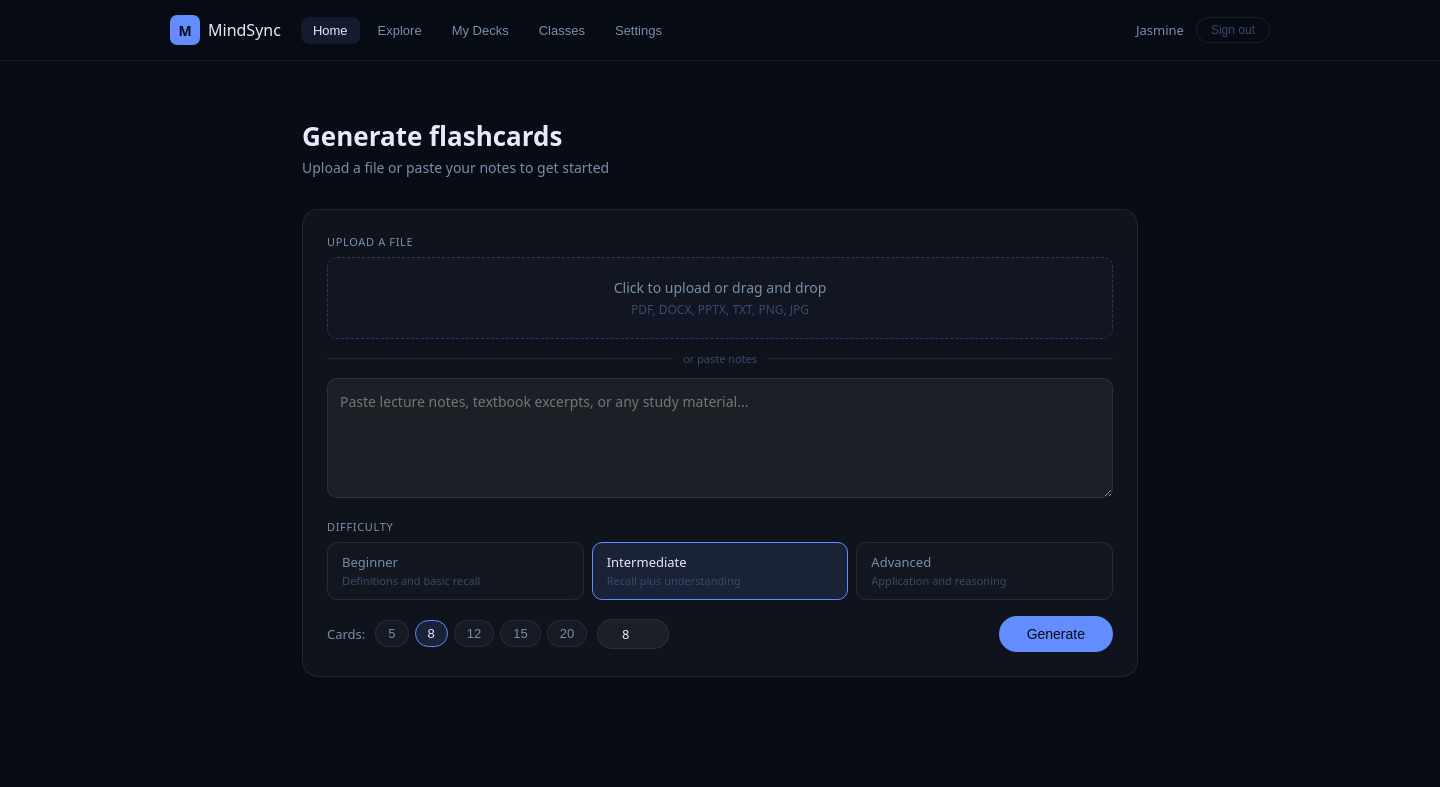
review screen › deleting a card excludes it from the saved deck
The width and height of the screenshot is (1440, 787).
Type "notes" into the text box with placeholder "Paste lecture notes".
click(720, 438); type("notes")  # box [327,378,1113,498]
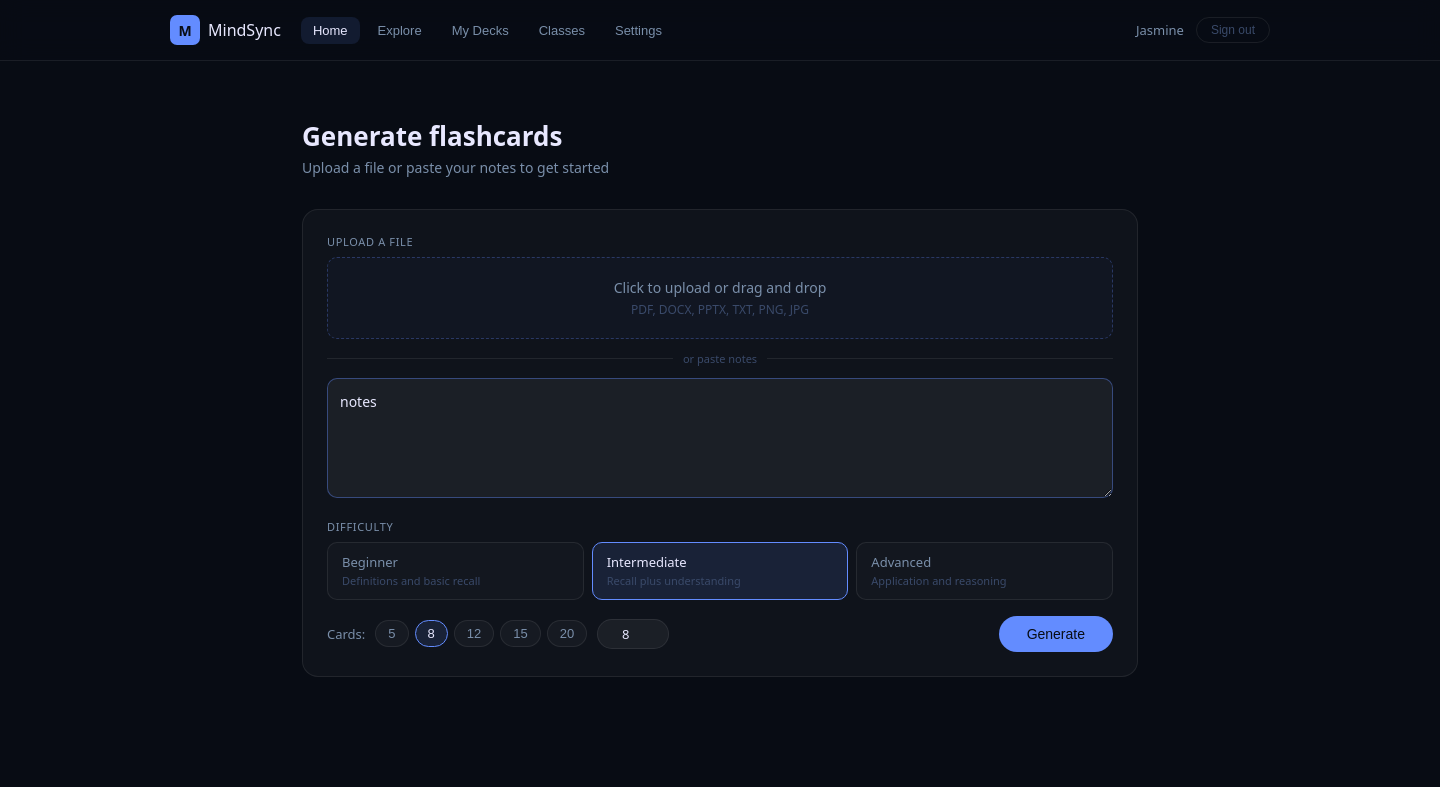
Click the button "Generate".
click(1056, 634)  # box [999,616,1113,652]
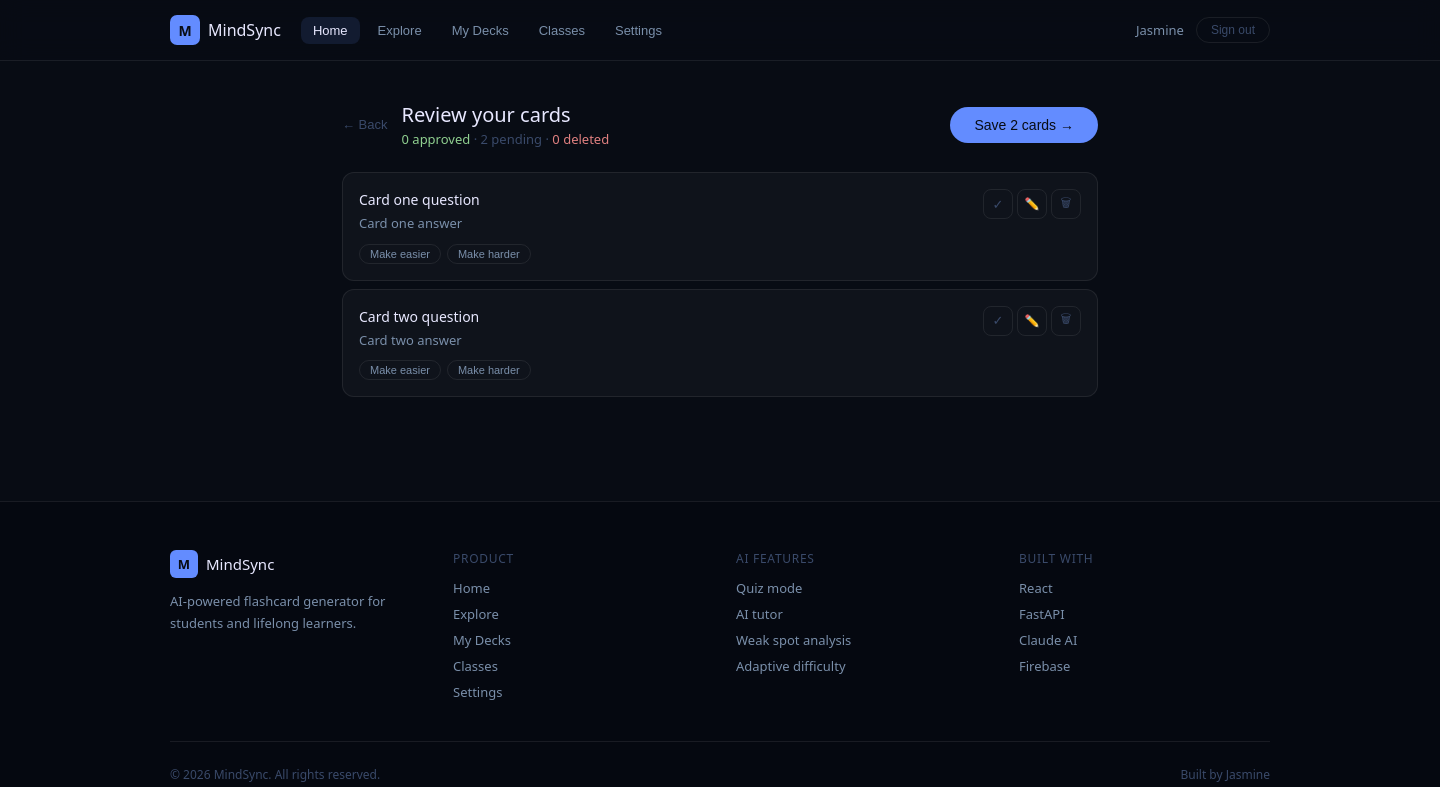
Now the text "Review your cards" is shown, box [402,101,571,128]
Click the button titled "Delete" in the row of "Card one question".
click(1066, 204)  # box [1051,189,1081,219]
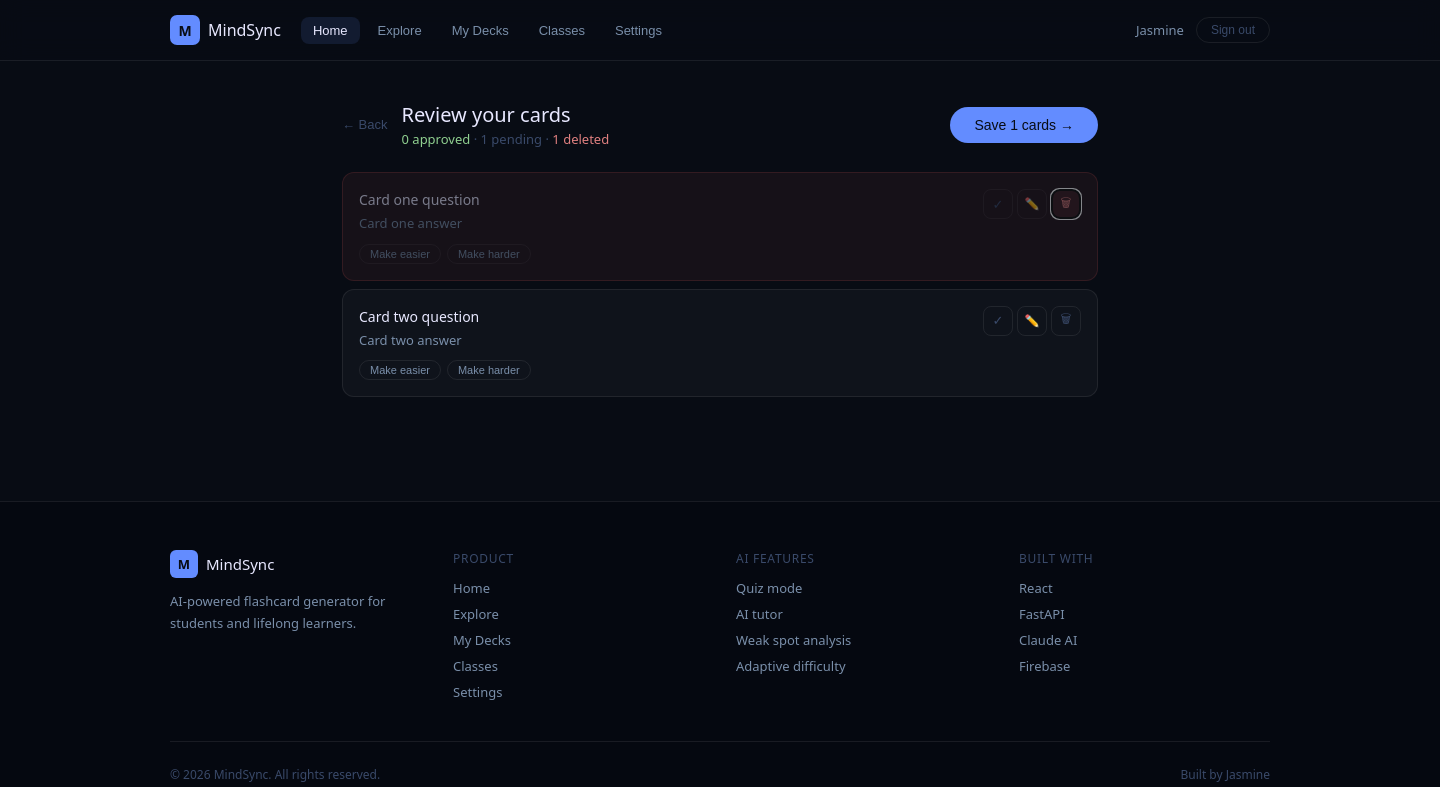
Now the text "1 deleted" is shown, box [552,130,609,148]
Click the button "Save 1 cards →".
click(1024, 124)  # box [950,106,1098,142]
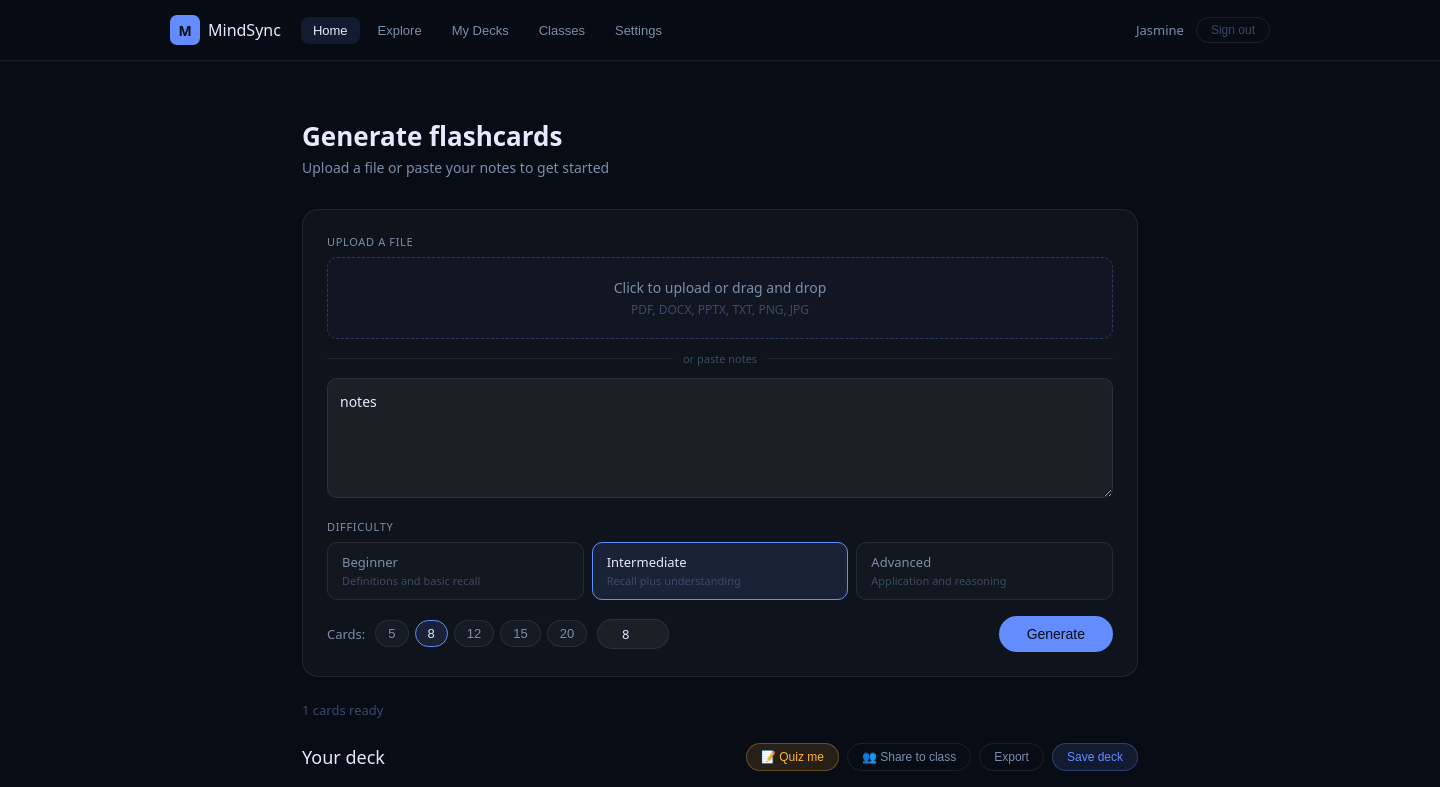
Now the text "1 cards ready" is shown, box [302,701,383,719]
